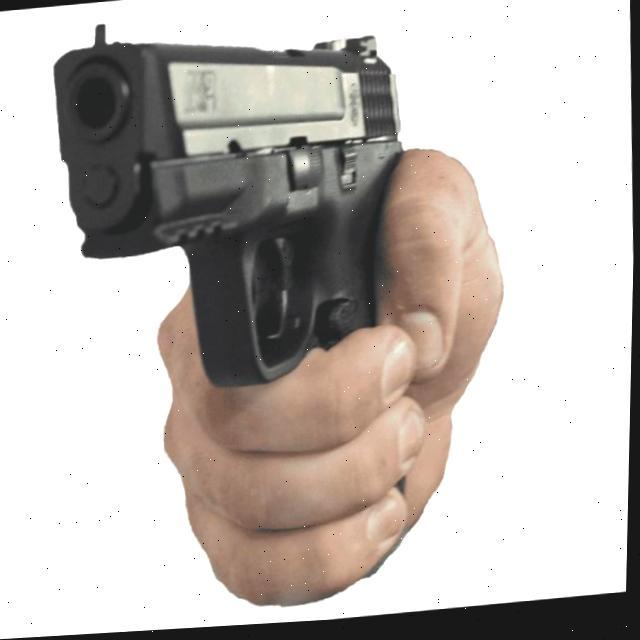gun: (44, 0, 413, 407)
